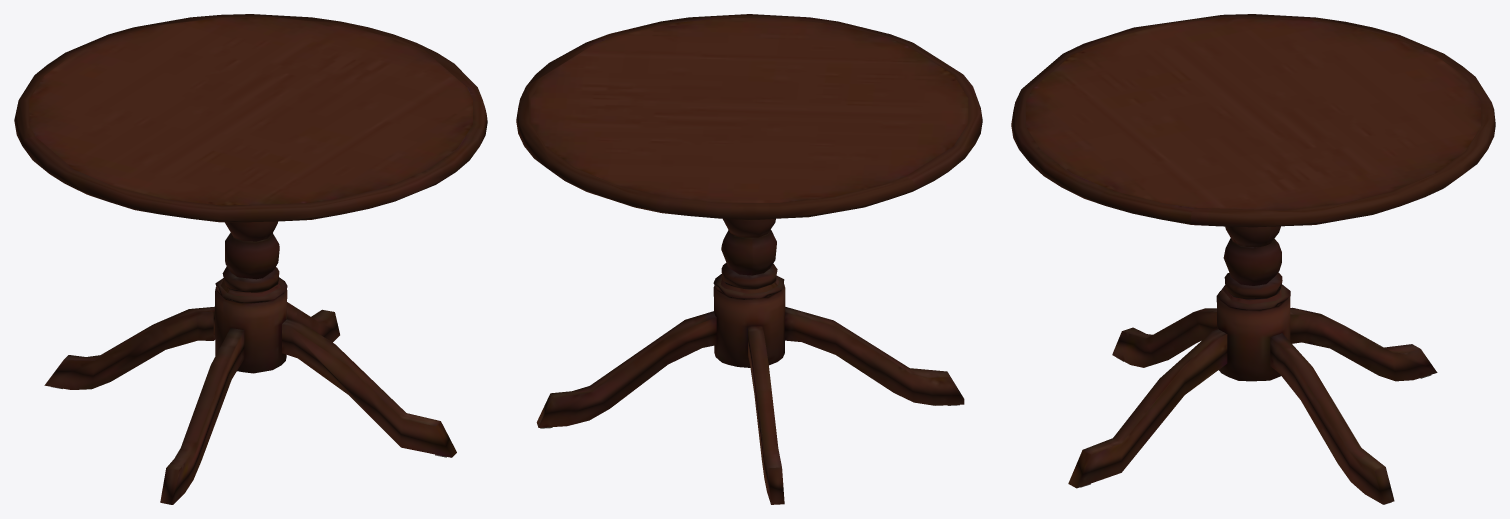
The model's file is round_wooden_table_01.glb.
3 views of the same model, side by side, from view 1: azimuth 30°, elevation 25°; view 2: azimuth 150°, elevation 25°; view 3: azimuth 270°, elevation 25° (orthographic). The views are drawn at different scales.
Visible parts, largest first — view 1: round_wooden_table_01; view 2: round_wooden_table_01; view 3: round_wooden_table_01.
Part boxes in pixels (box(x1,y1,x2,y2)): round_wooden_table_01: box(14, 14, 487, 504); round_wooden_table_01: box(516, 14, 982, 504); round_wooden_table_01: box(1011, 14, 1495, 504).
Size of the model in its own units: 1.4 by 1 by 1.4.
Materials: 1 (1 with a texture image).
